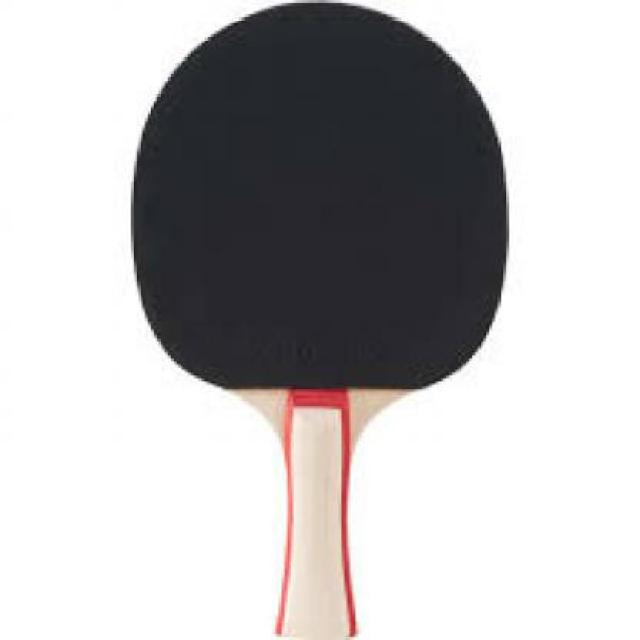table_tennis_racket: (121, 0, 518, 437)
